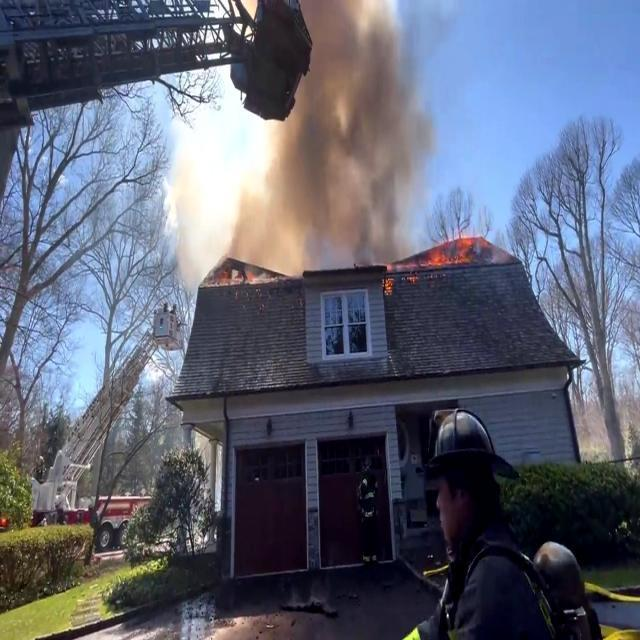Smoke: (254, 0, 431, 270)
